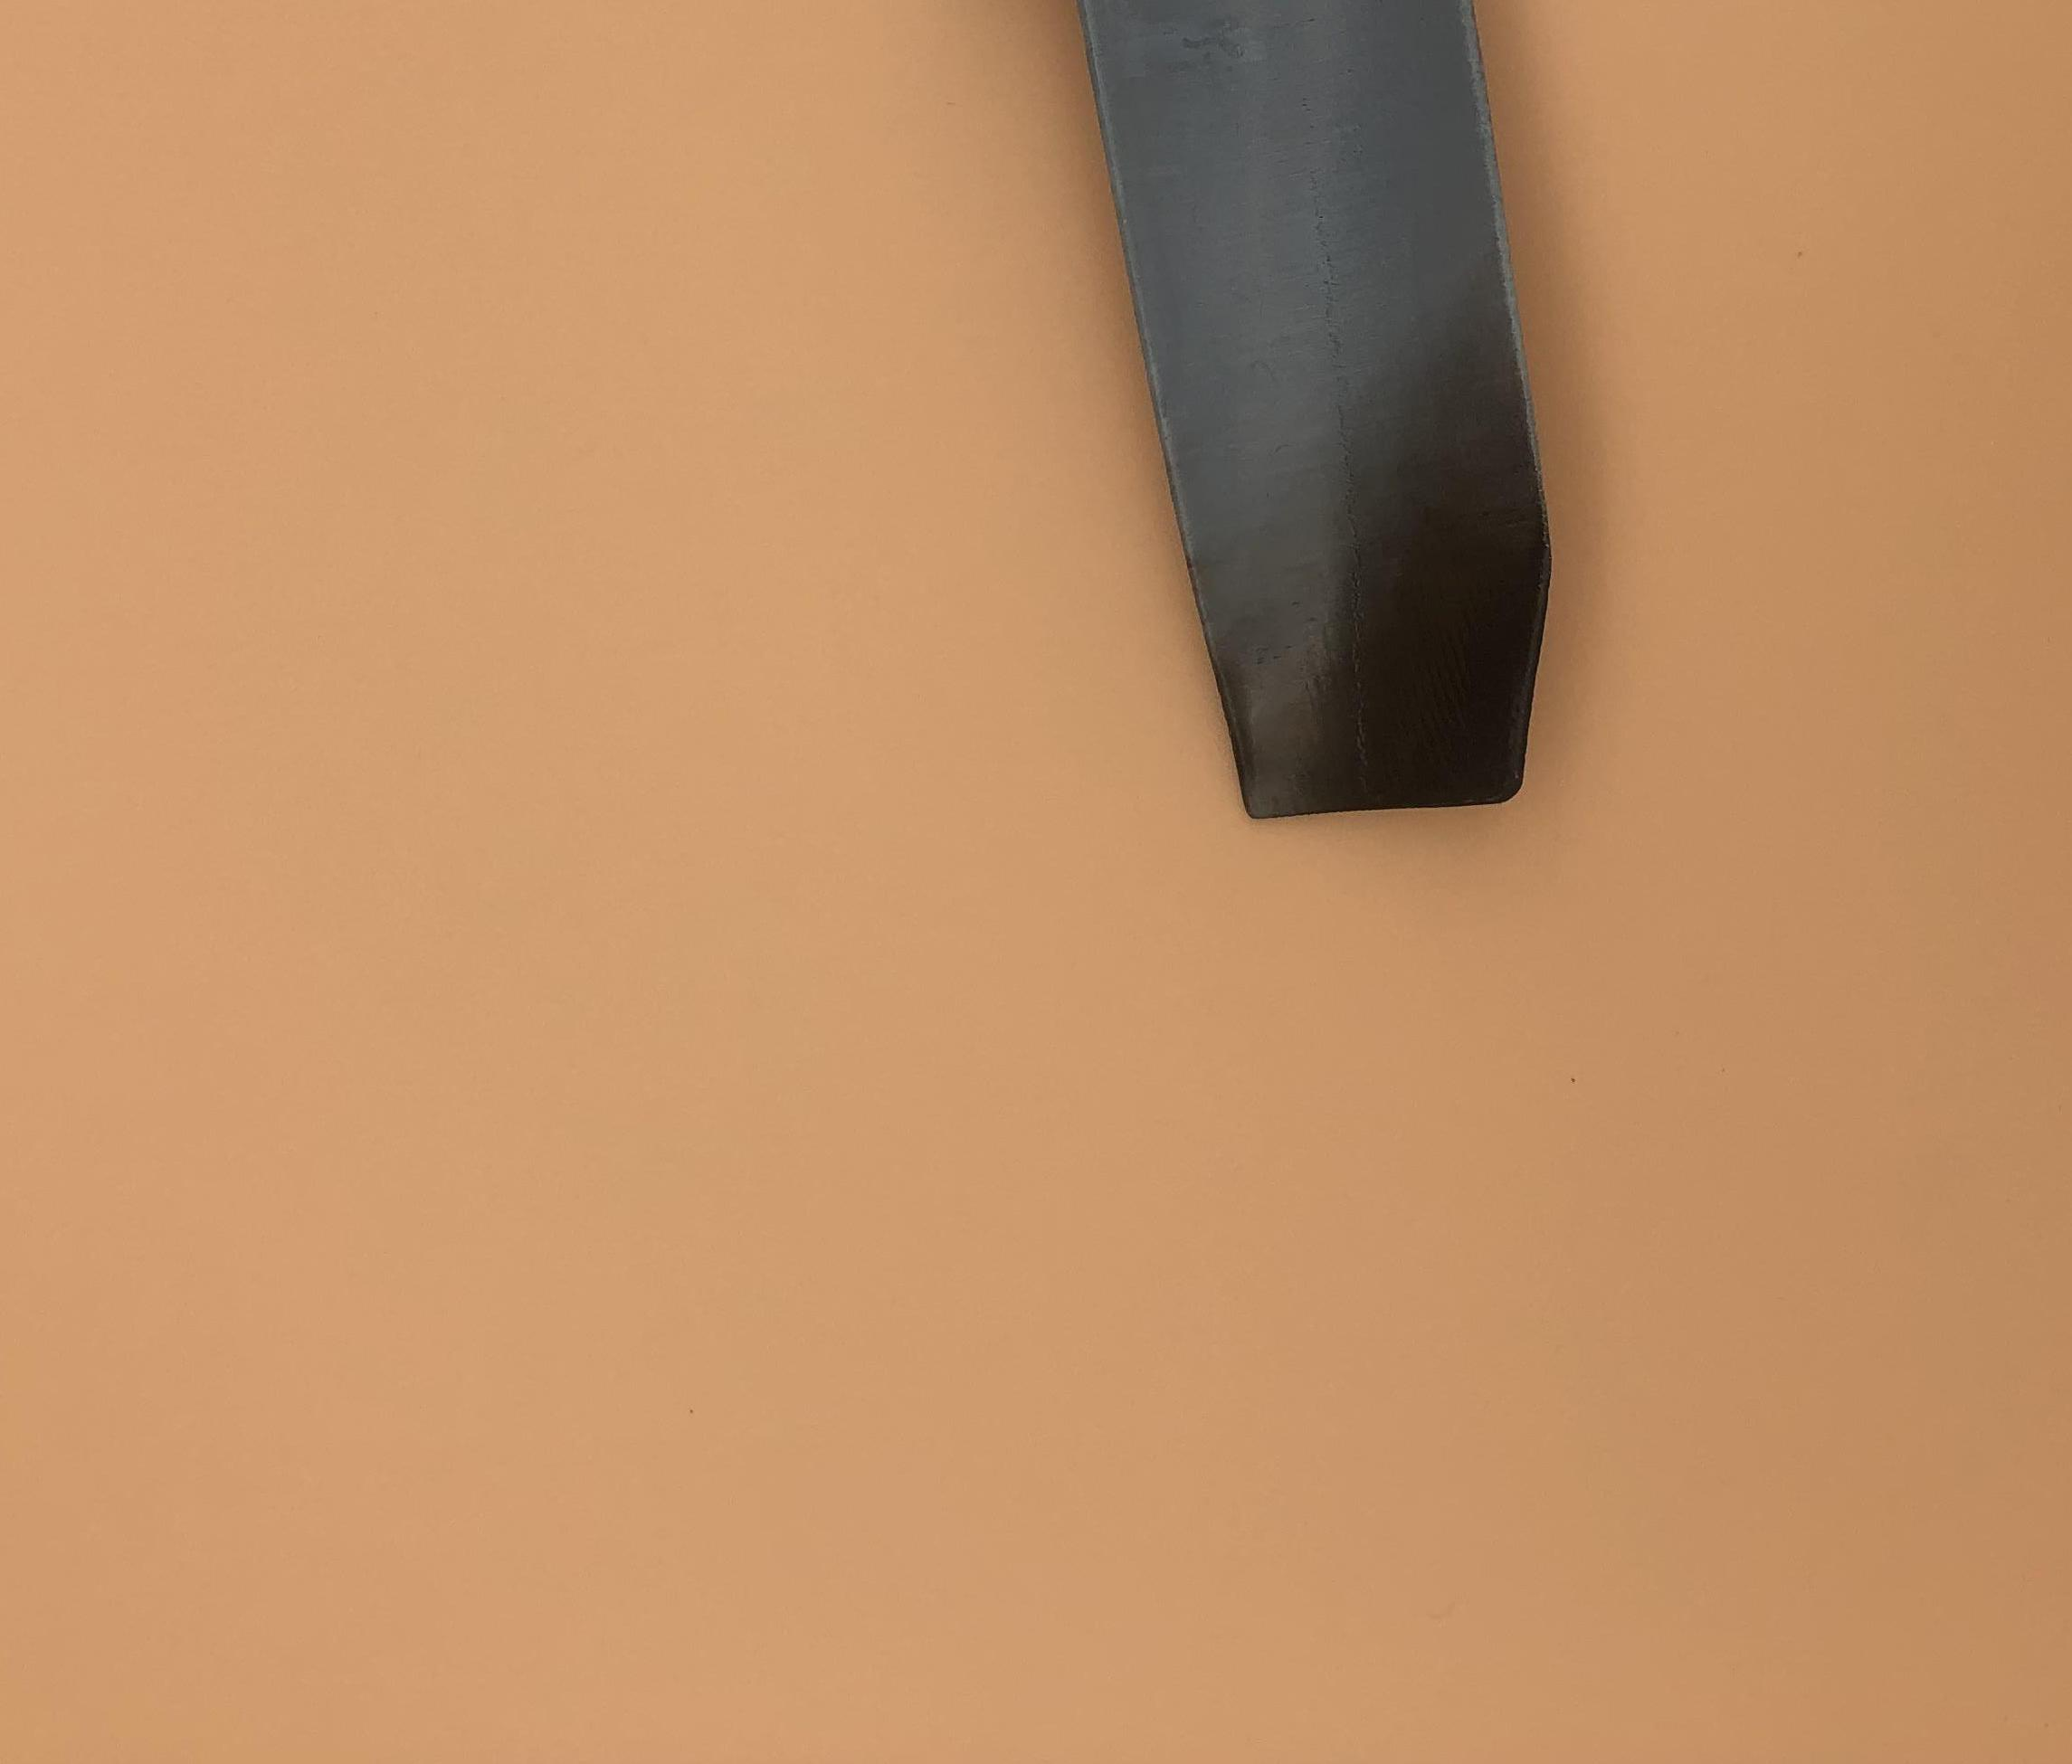ablation: (1342, 486, 1524, 779)
